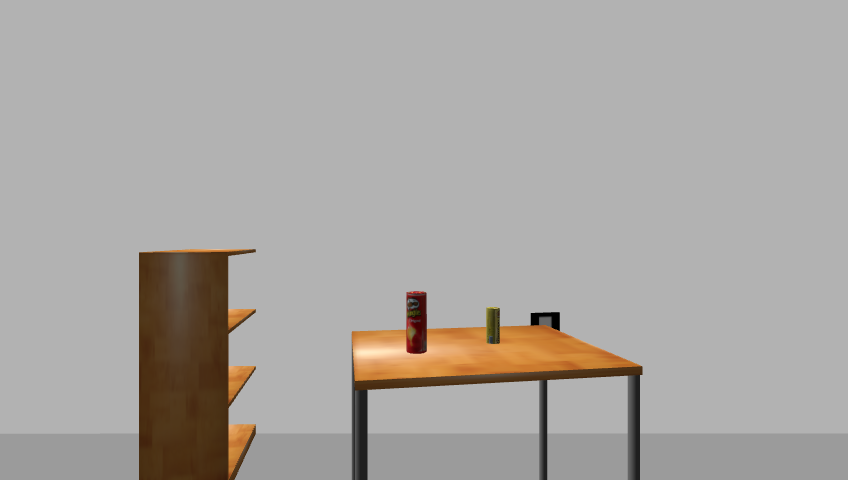aruco marker: (528, 311, 564, 336)
biscuits pack: (485, 307, 501, 346)
bookshelf: (133, 247, 265, 480)
dinner table: (343, 325, 651, 480)
pringles can: (404, 290, 428, 355)
